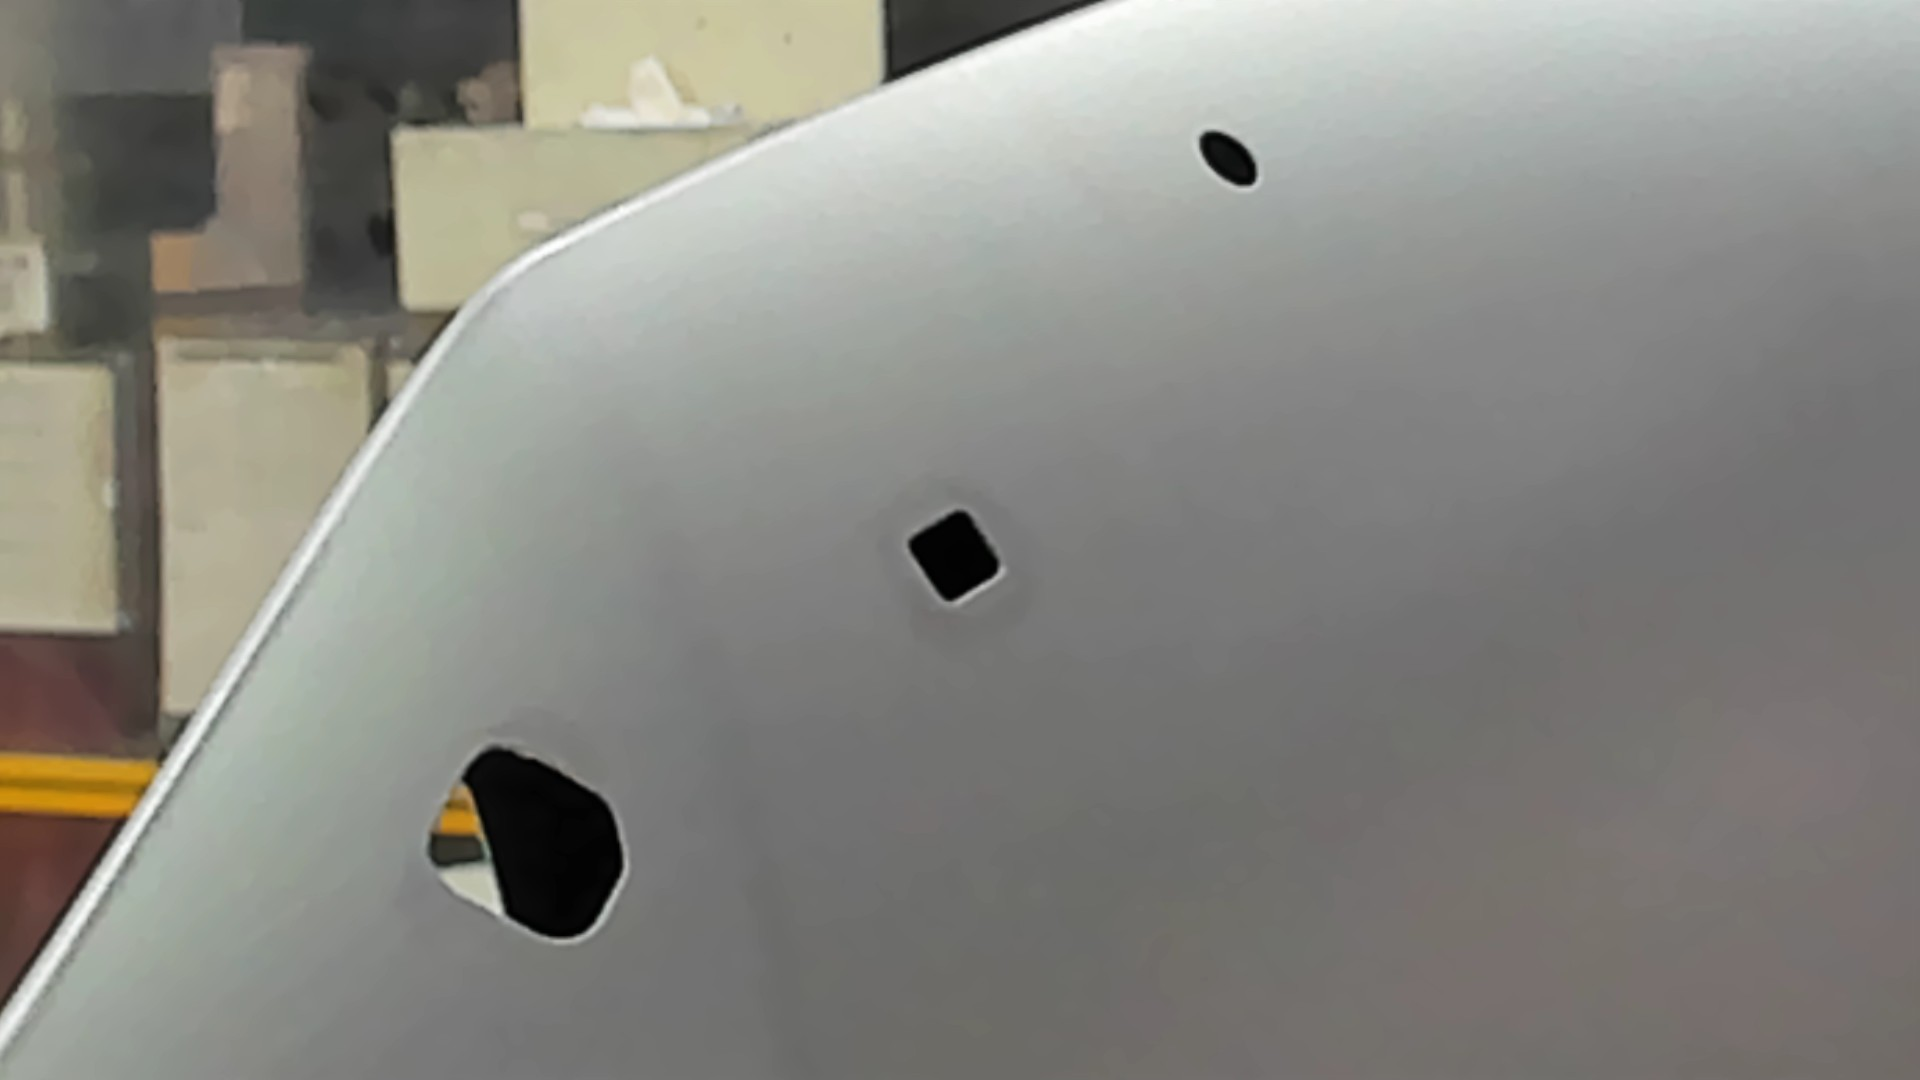chico: (1192, 124, 1265, 194)
grande: (422, 732, 636, 949)
mediano: (897, 505, 1009, 609)
